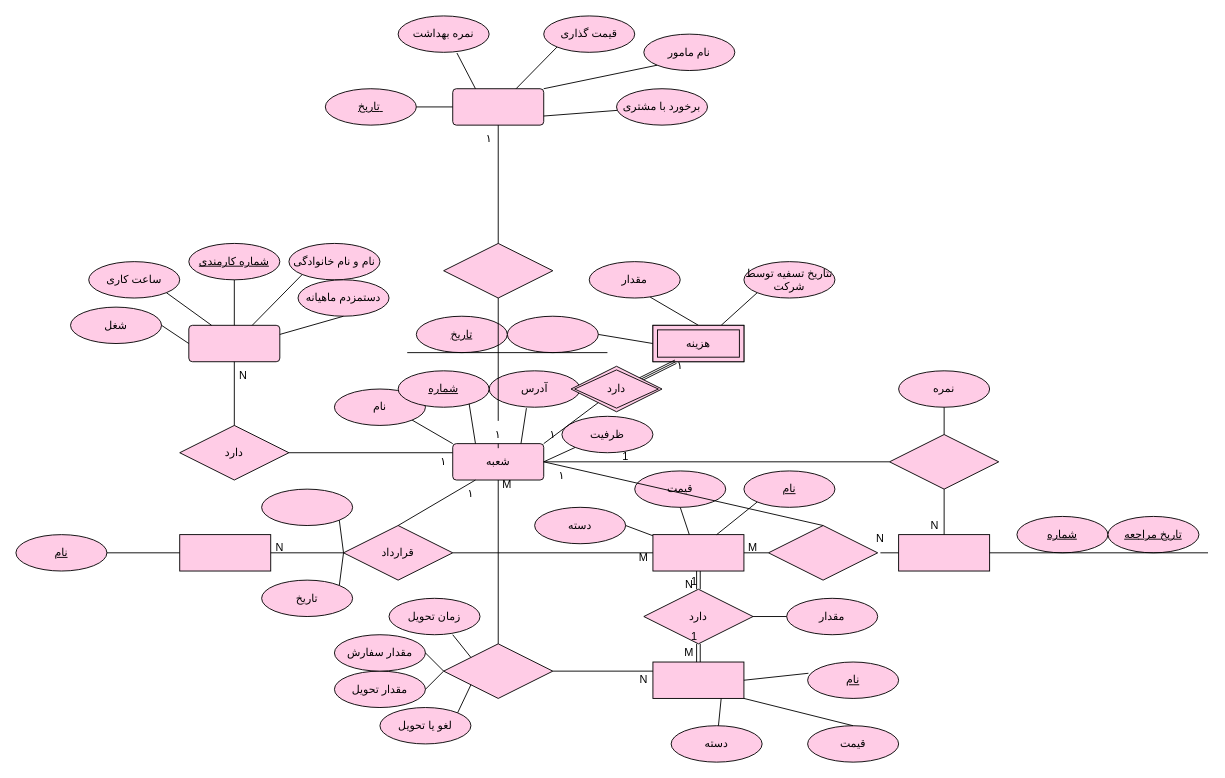
The diagram is 1225 pixels wide and 778 high, and some of its shapes have lost their labels. Here are the shapes that lost their labels. From the top down, the centre of each, then its label:
At [498,106]: "بازرسی شدن".
At [498,270]: "ب ش".
At [234,343]: "کارمند".
At [552,334]: "نوع".
At [944,461]: "اارزیابی رستوران".
At [307,507]: "تعداد".
At [225,552]: "سازمان".
At [698,552]: "غذا".
At [823,552]: "سفارش".
At [944,552]: "مشتری".
At [498,670]: "سقارش".
At [698,679]: "ماده اولیه".
